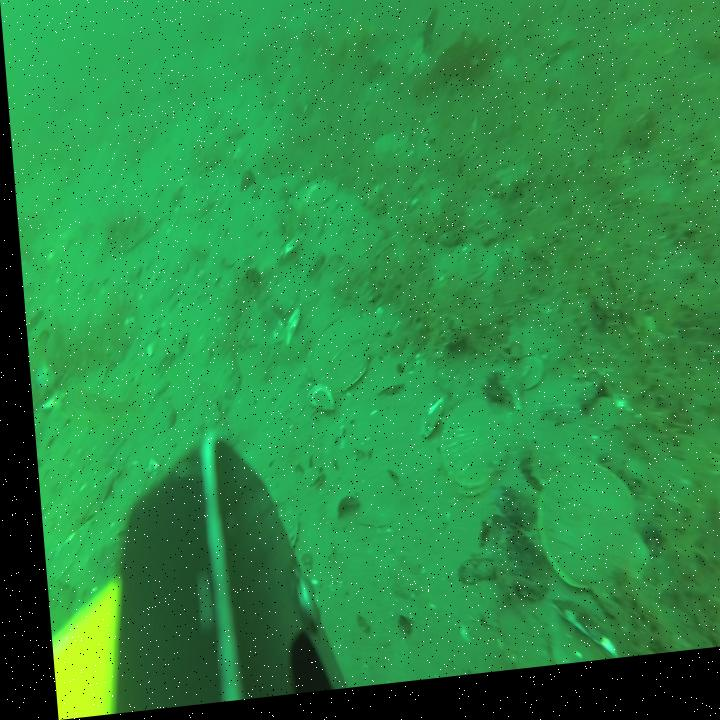scallop: (525, 467, 642, 634), (430, 408, 500, 508), (301, 321, 378, 403), (181, 186, 217, 224), (372, 140, 406, 172), (309, 187, 335, 211), (290, 184, 313, 210)
